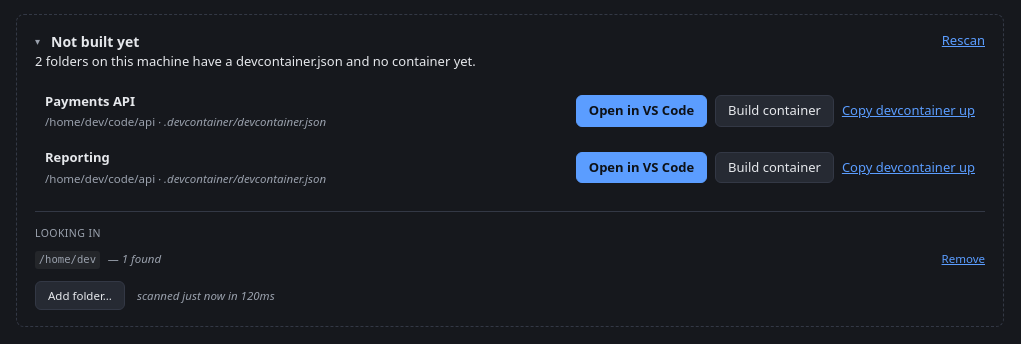
Test case: collapsing the panel › shows the count once collapsed
Click the button "▾ Not built yet".
click(87, 42)  # box x1=35 y1=31 x2=139 y2=52
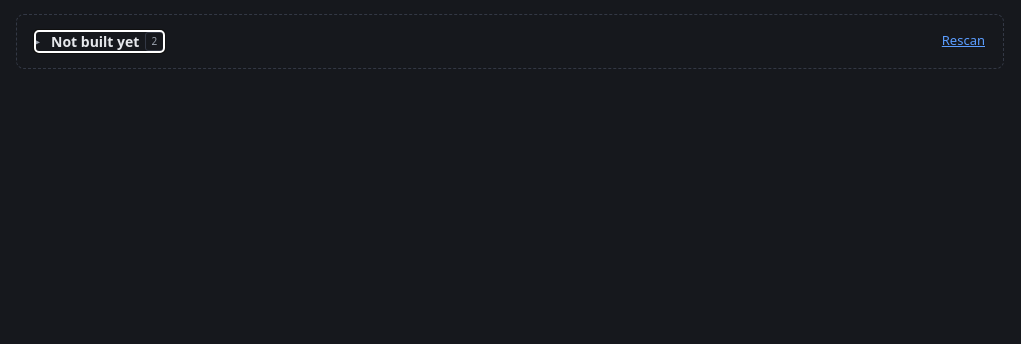
Now the button "▸ Not built yet 2" is shown, box x1=35 y1=31 x2=164 y2=52
